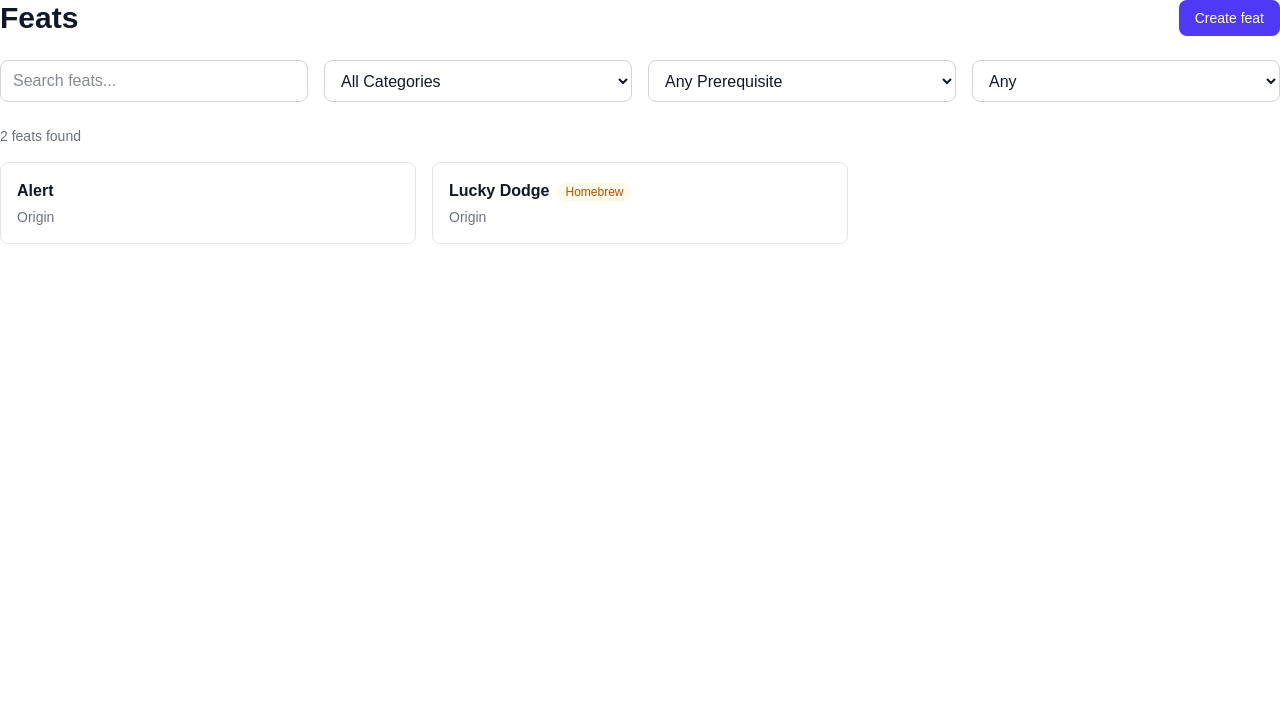
Test: FeatListPage › homebrew feats › offers Edit and Delete on the owner’s homebrew feat in the detail modal
Click the button "Lucky Dodge Homebrew Origin" at (499, 190), box [432,162,848,244]
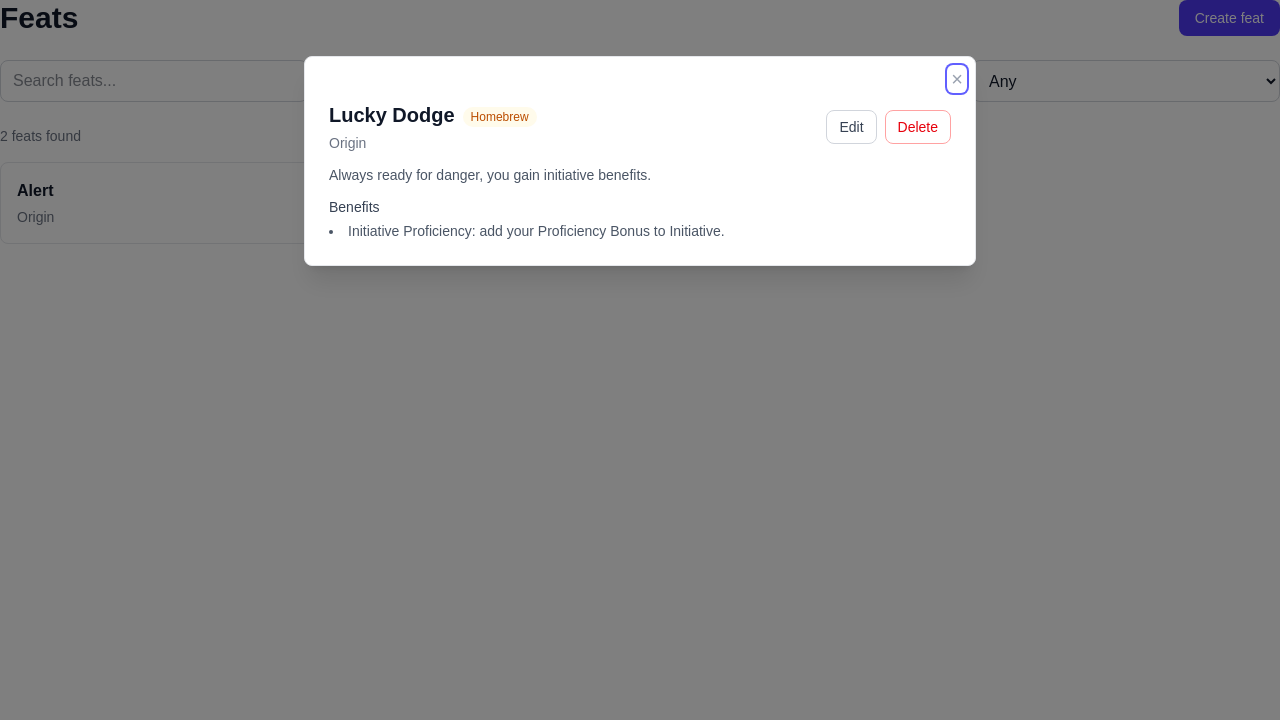
Result: the button "Delete" is shown at [884,110,951,144]
